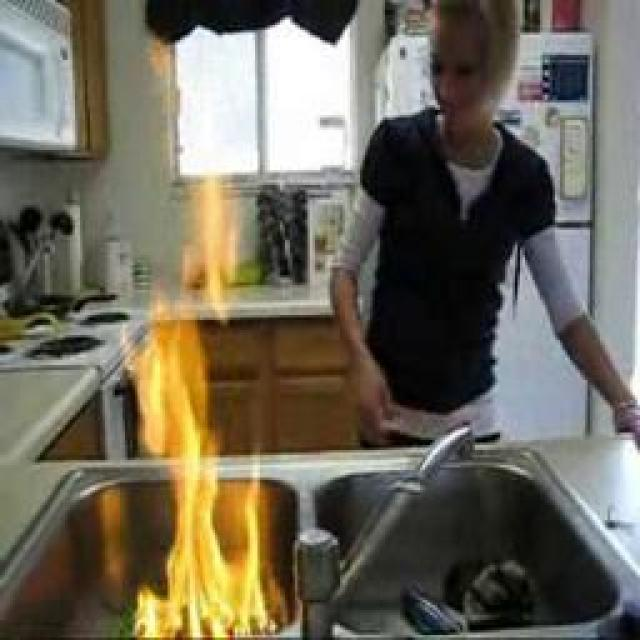Fire: (127, 204, 280, 638)
